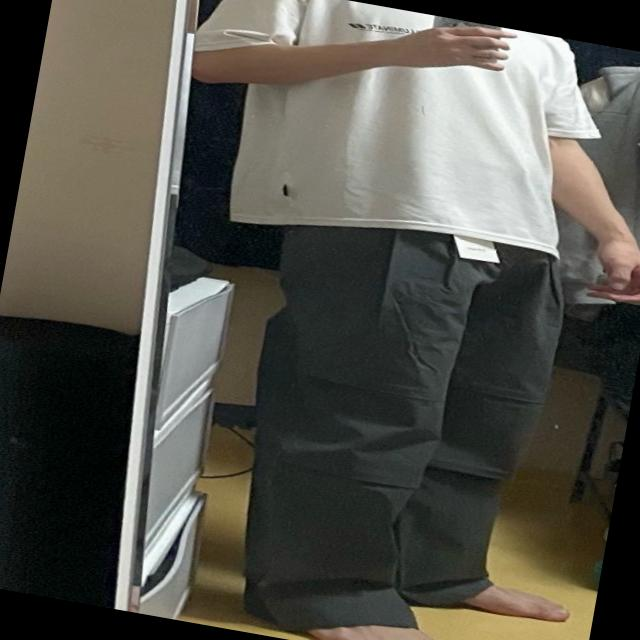cottonpants: (213, 201, 574, 640)
shortsleeve: (167, 0, 619, 286)
